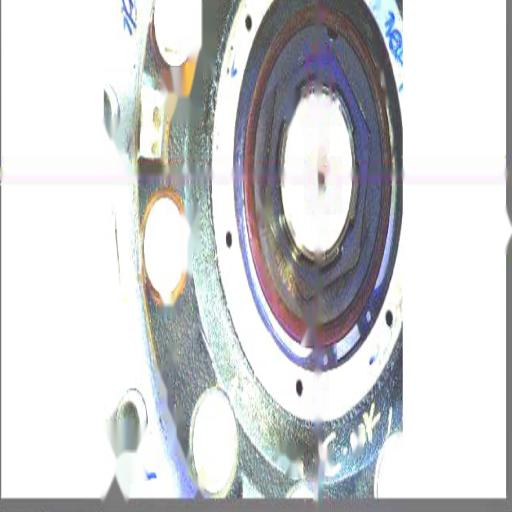center: (316, 170, 328, 195)
notch: (324, 22, 342, 47)
